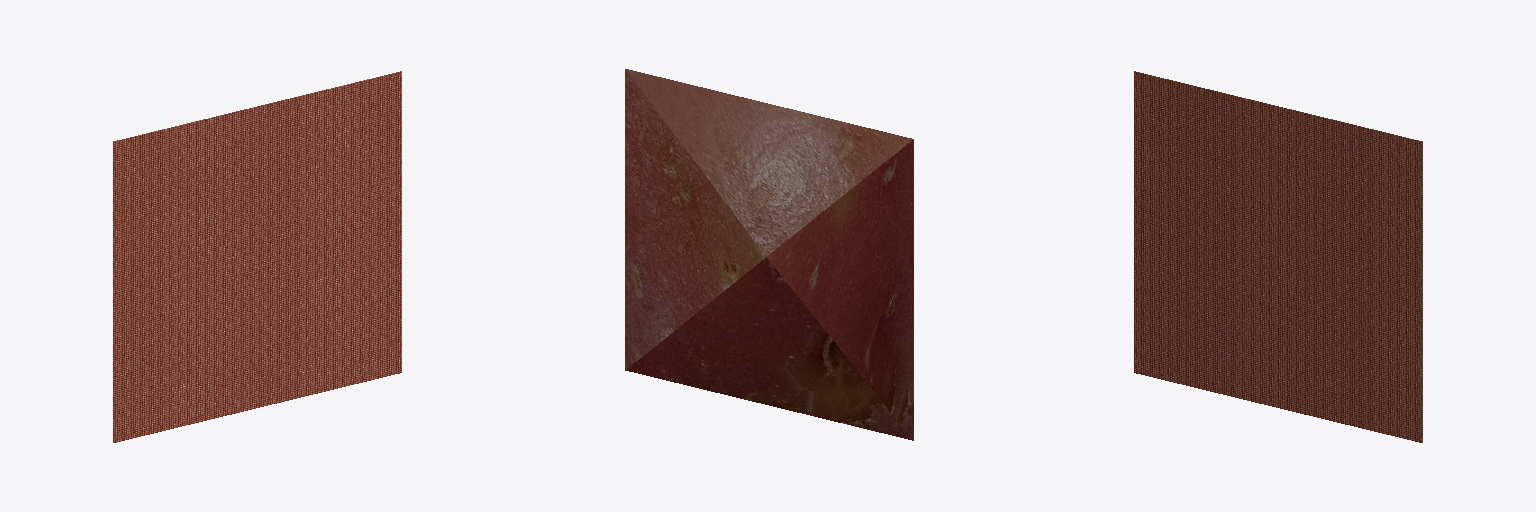
3 renders of one model, left to right at view 1: azimuth 30°, elevation 25°; view 2: azimuth 150°, elevation 25°; view 3: azimuth 330°, elevation 25°, orthographic.
Parts seen in each view (by area): view 1: none; view 2: Bottom; view 3: none.
Part boxes in pixels (left/top/right/bottom): Bottom: left=625, top=69, right=913, bottom=440.
Size of the model in its own units: 1000 by 1000 by 19.73.
Materials: 1 (1 with a texture image).